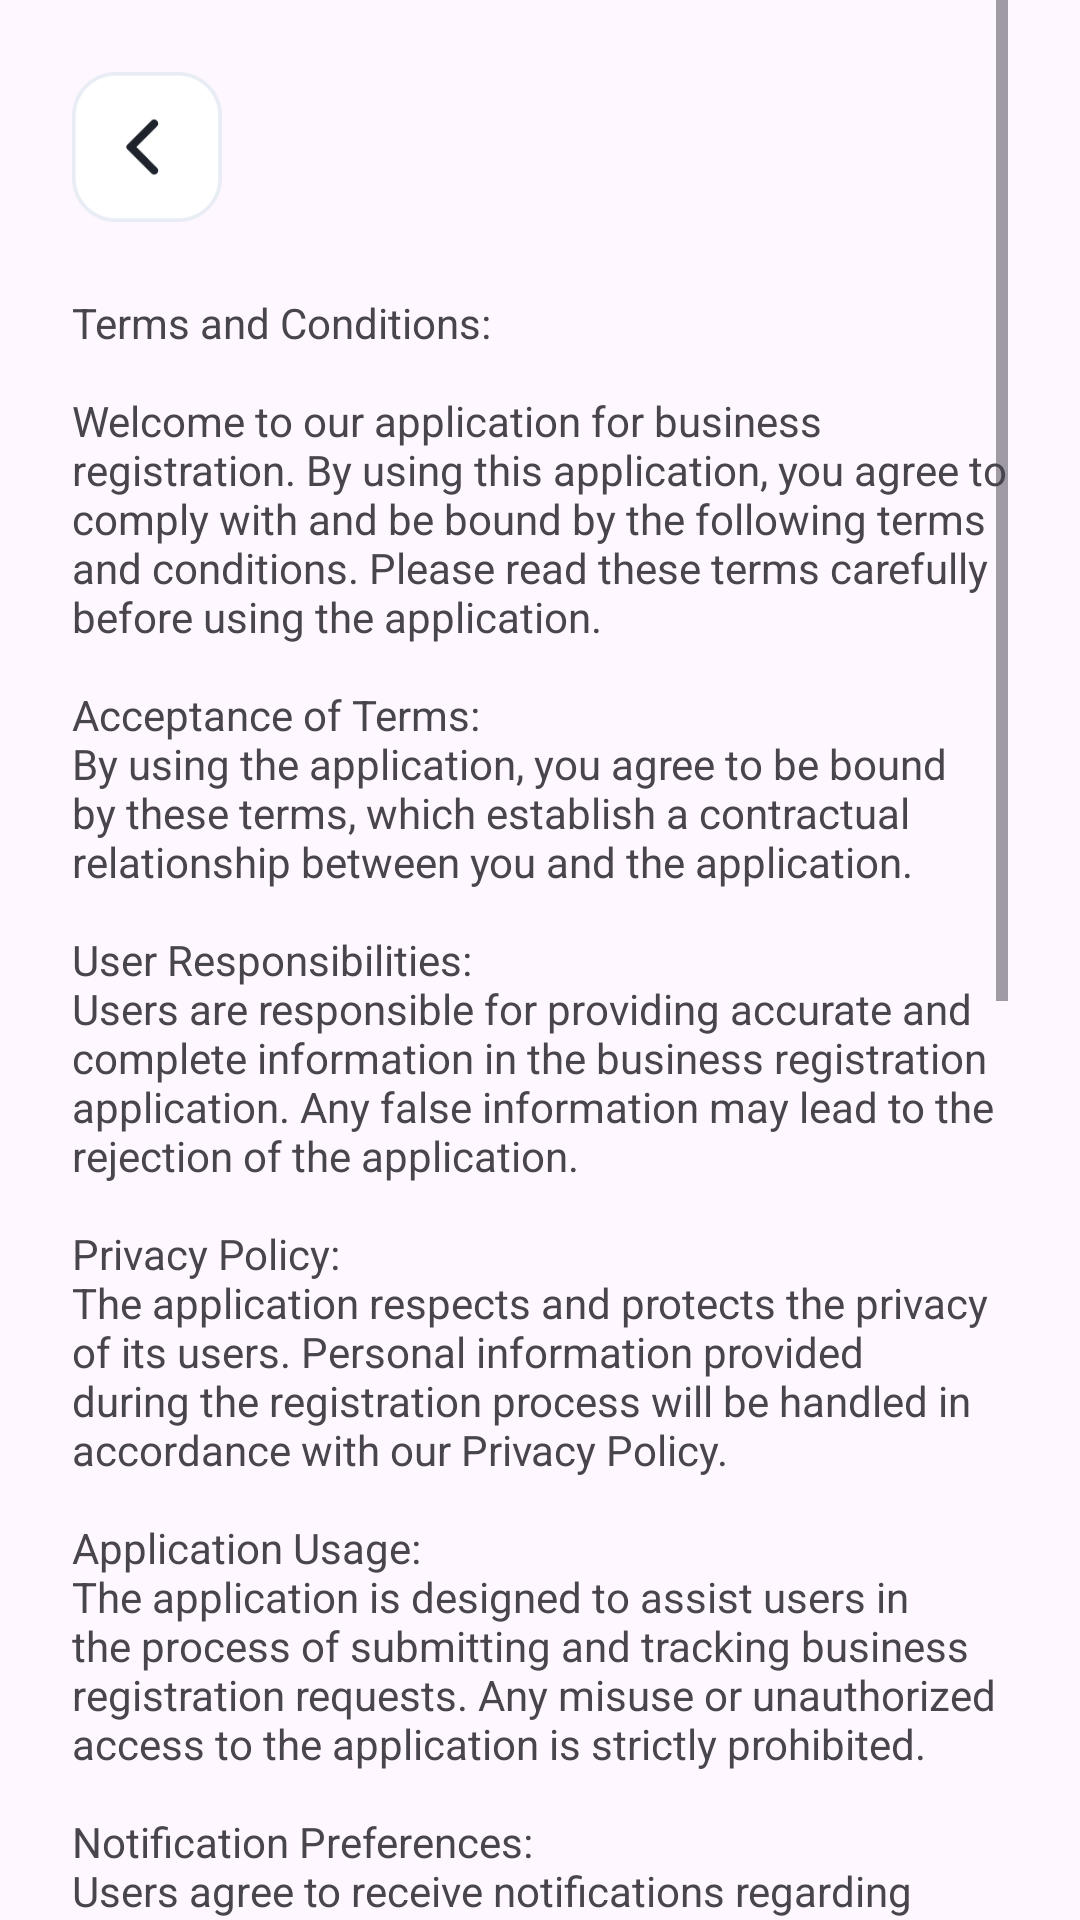

Icon click points for this 1080×1920 phone screenshot, format (x,y):
return: (142,147)
